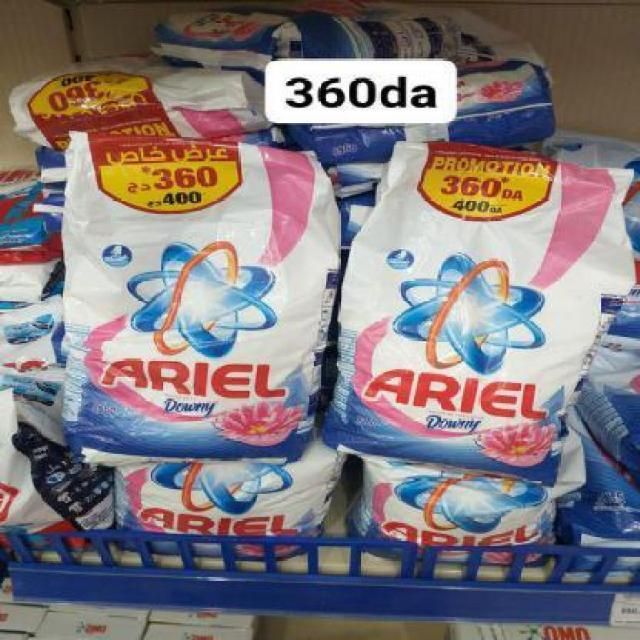Detergent: (44, 121, 348, 455), (333, 147, 590, 467), (98, 453, 336, 551), (354, 456, 557, 553)
